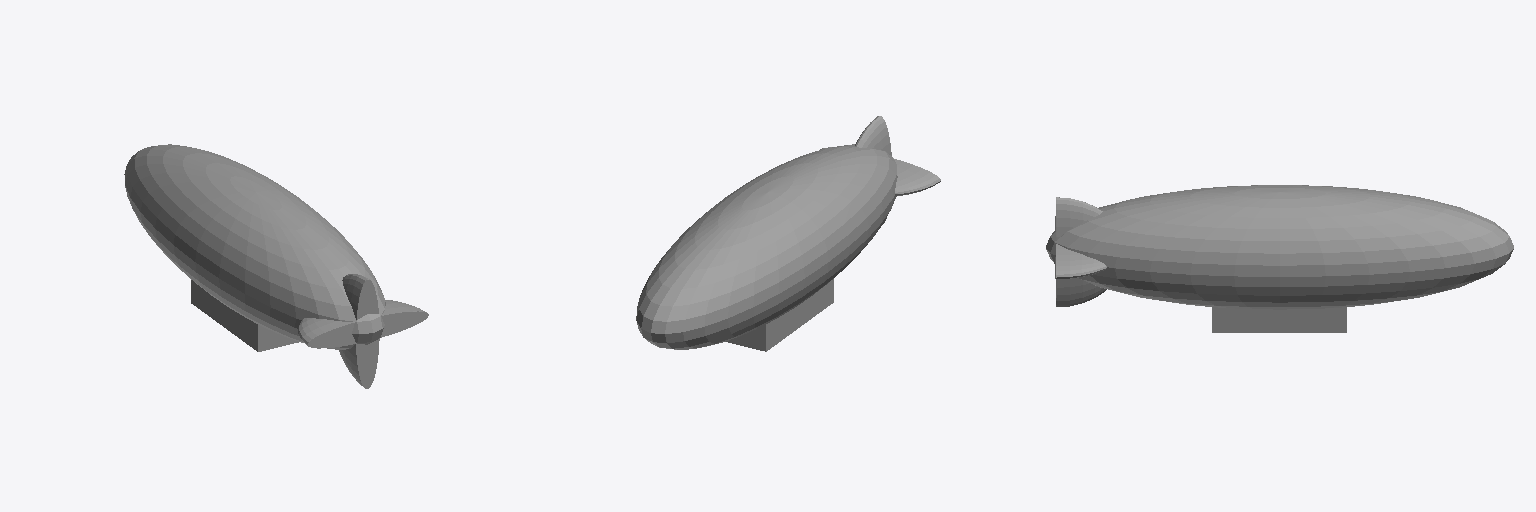
File: dirigible_nuevo.obj
3 views of the same model, side by side, from view 1: azimuth 30°, elevation 25°; view 2: azimuth 150°, elevation 25°; view 3: azimuth 270°, elevation 25° (orthographic).
Parts seen in each view (by area): view 1: Sphere; view 2: Sphere; view 3: Sphere.
Boxes of the visible parts, x1,y1,x2,y2 form: Sphere: [124, 144, 428, 388]; Sphere: [636, 116, 940, 351]; Sphere: [1046, 185, 1513, 332].
Size of the model in its own units: 1.5 by 1.5 by 5.